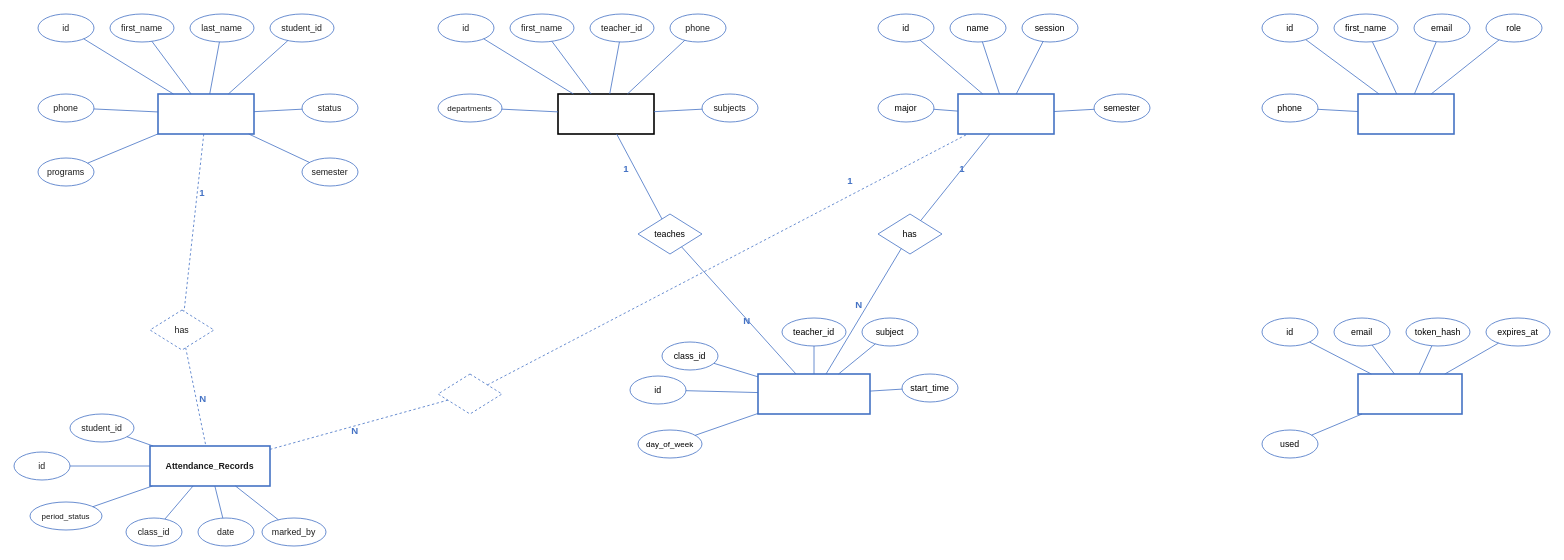
The diagram is 1564 pixels wide and 560 high, and some of its shapes have lost their labels. The shapes that lost their labels are listed below. From the top down, each one's centre as x and y in pixels, then its label:
point 205,113: Students
point 605,113: Teachers
point 1005,113: Classes
point 1405,113: Office_Staff
point 469,393: for
point 813,393: Schedule_Entries
point 1409,393: Password_Reset
